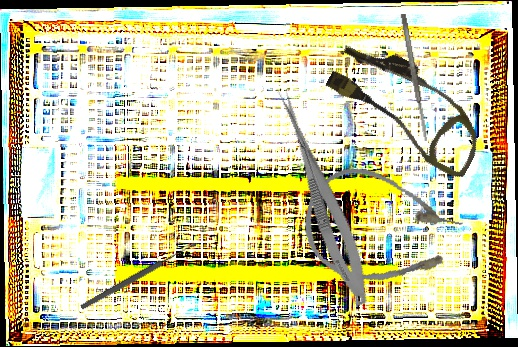Cannula: (315, 32, 500, 181), (294, 157, 470, 302)
Micro Scissor: (264, 85, 379, 310)
Spatula Surgical: (399, 13, 430, 142)
Surgical Spoon: (79, 240, 198, 312)
